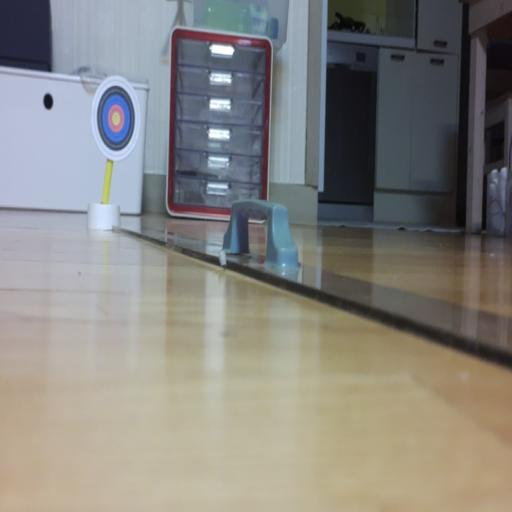target: (91, 76, 140, 162)
